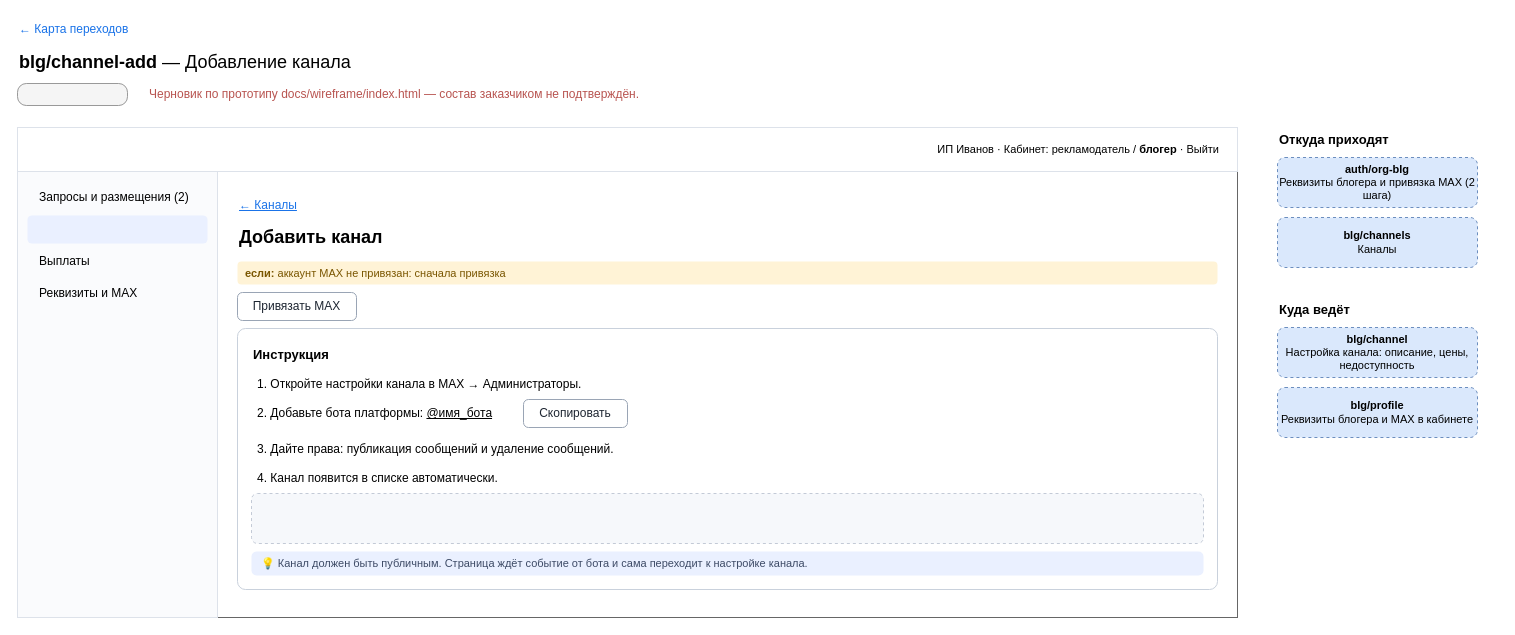
Some shapes in this 1515 by 635 pixel diagram are drawn without their labels. The shapes that lost their labels are listed below. From the top down, each one's box as (x1, y1, x2, y2) in pixels, then its label:
(16, 82, 128, 106): не разобран
(16, 126, 1238, 172): Chanly
(27, 215, 207, 243): Каналы
(250, 492, 1204, 544): картинки-подсказки
